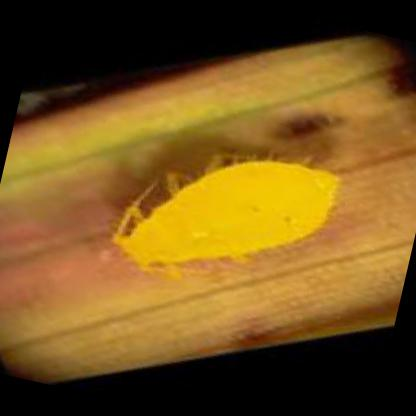schizaphis graminum: (114, 154, 340, 272)
